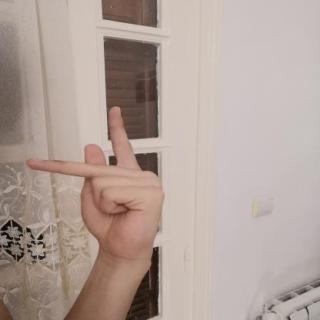DHAA: (16, 98, 176, 267)
